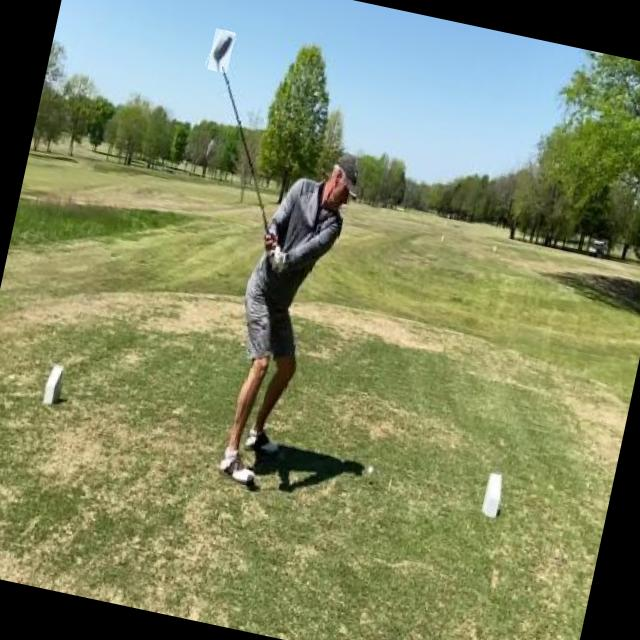club head: (207, 28, 235, 73)
